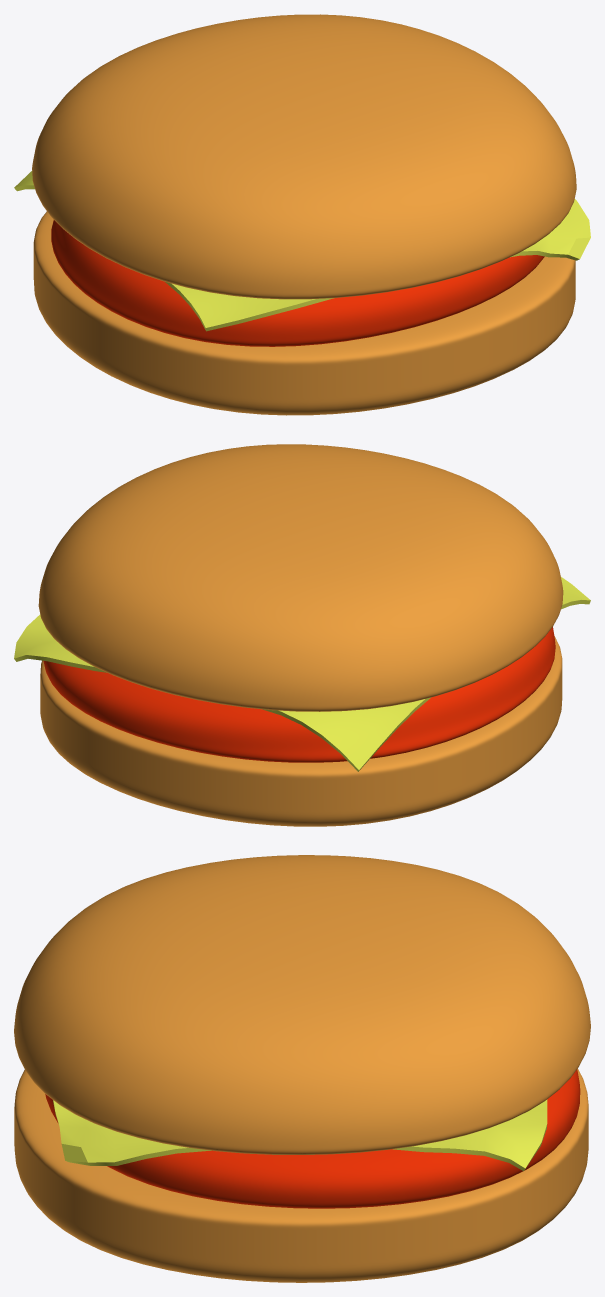
The model's file is hamburger.glb.
3 renders of one model, top to bottom at view 1: azimuth 30°, elevation 25°; view 2: azimuth 150°, elevation 25°; view 3: azimuth 270°, elevation 25°, orthographic. The views are drawn at different scales.
Parts seen in each view (by area): view 1: Cube.002, Cube, Cube.001, Plane; view 2: Cube.002, Cube, Cube.001, Plane; view 3: Cube.002, Cube, Cube.001, Plane.
Part boxes in pixels (left/top/right/bottom): Cube.002: left=32, top=14, right=576, bottom=299; Cube: left=33, top=211, right=575, bottom=415; Cube.001: left=51, top=220, right=544, bottom=346; Plane: left=14, top=171, right=590, bottom=331; Cube.002: left=38, top=444, right=563, bottom=711; Cube: left=40, top=636, right=562, bottom=826; Cube.001: left=43, top=627, right=555, bottom=762; Plane: left=14, top=577, right=590, bottom=771; Cube.002: left=14, top=855, right=590, bottom=1154; Cube: left=14, top=1068, right=588, bottom=1282; Cube.001: left=45, top=1069, right=580, bottom=1208; Plane: left=53, top=1099, right=547, bottom=1171.
Bounding box in the file's own units: 9.12 × 4.61 × 9.12.
